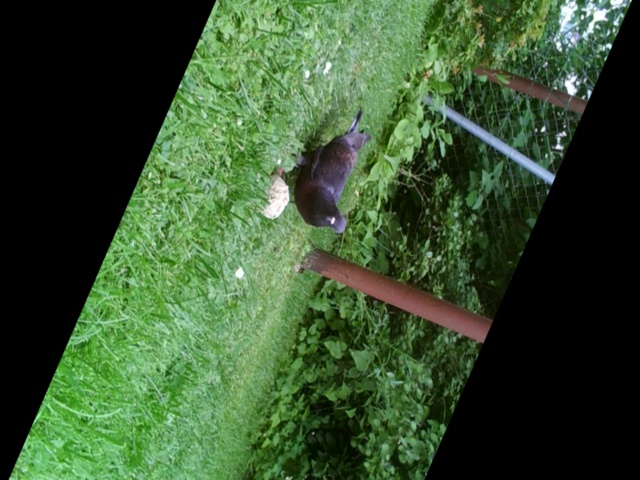Pigeon: (264, 102, 375, 240)
